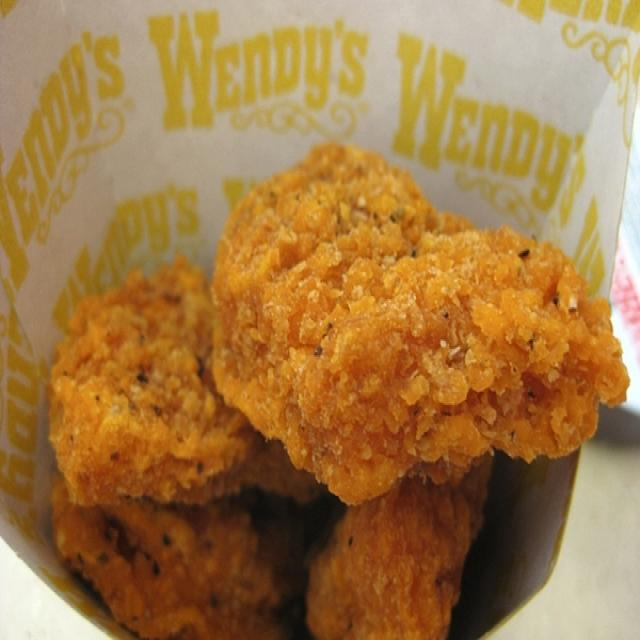鸡肉料理 含炸鸡: (33, 130, 624, 628)
